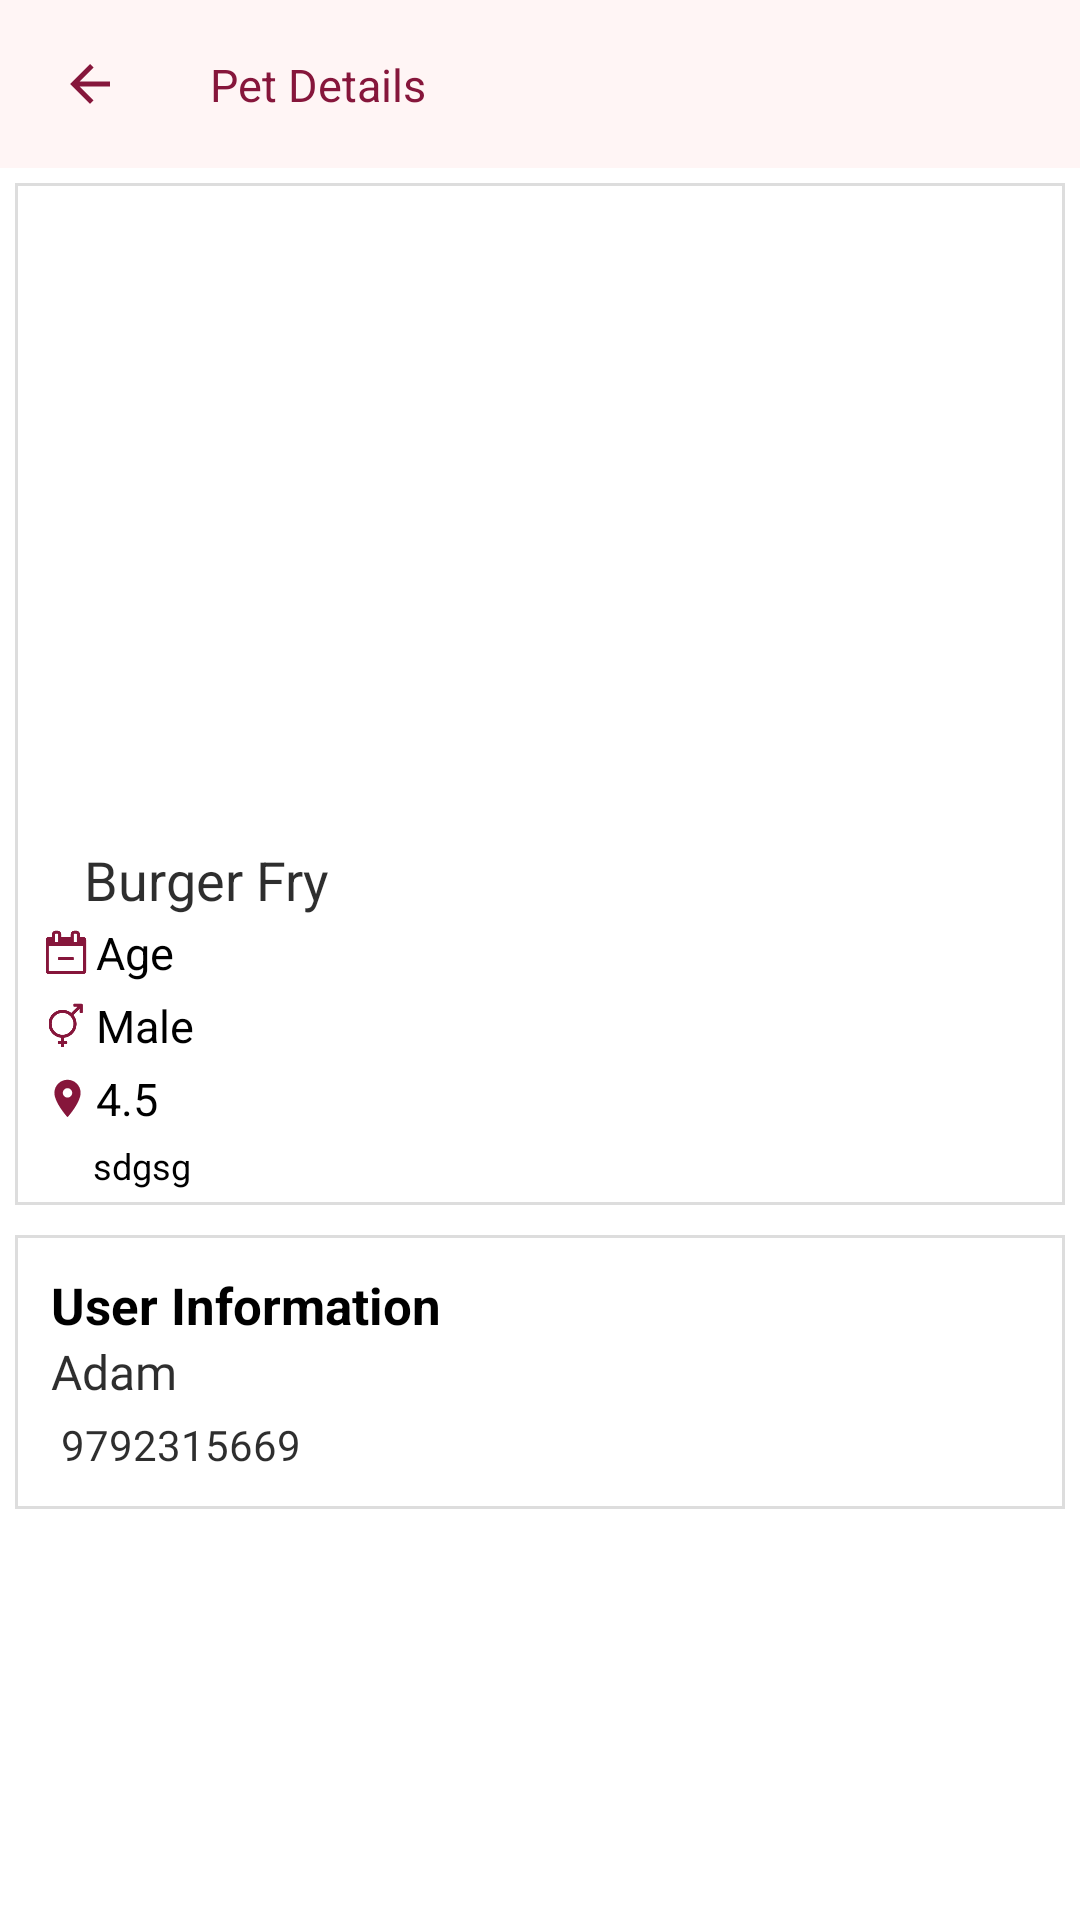

Where icons sit on this 1080px x 1920px app screen, as (x1, y1, x2, y2):
arrow back: (70, 64, 110, 104)
calender: (46, 930, 87, 974)
gender: (49, 1003, 83, 1047)
location on: (54, 1079, 81, 1117)
